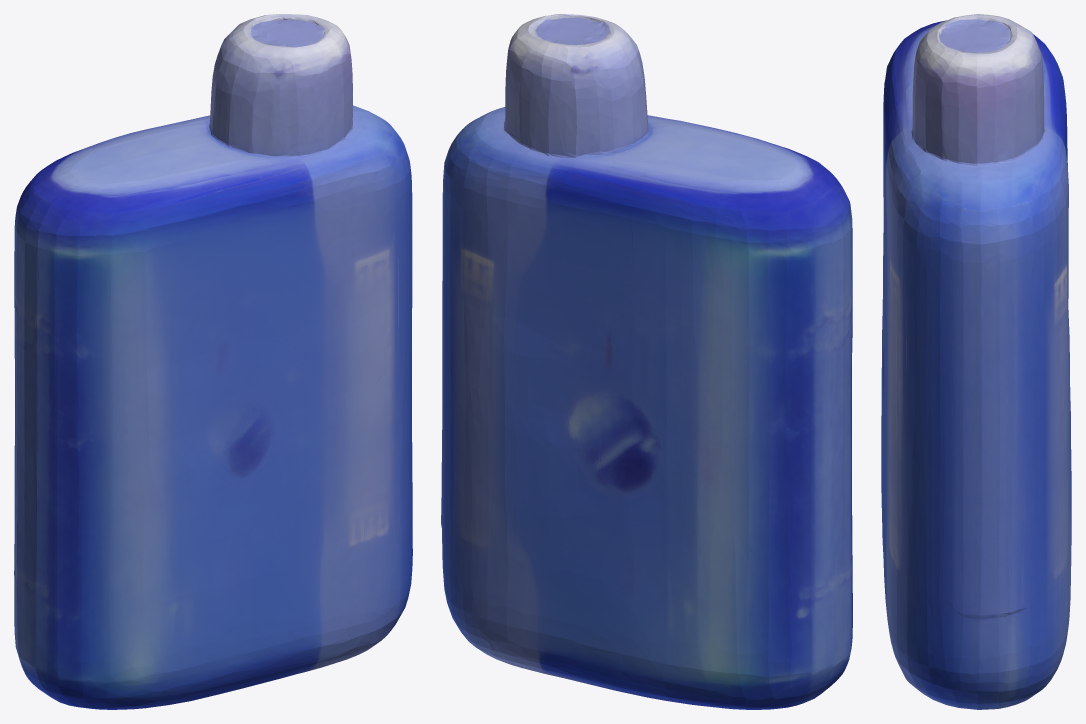
The model's file is geekbar.glb.
The picture shows the model from 3 angles, left to right: view 1: azimuth 30°, elevation 25°; view 2: azimuth 150°, elevation 25°; view 3: azimuth 270°, elevation 25°; orthographic projection. The views are drawn at different scales.
Visible parts, largest first — view 1: geometry_0; view 2: geometry_0; view 3: geometry_0.
Boxes of the visible parts, x1,y1,x2,y2 form: geometry_0: (14, 14, 412, 709); geometry_0: (441, 14, 852, 709); geometry_0: (881, 14, 1071, 709).
Bounding box in the file's own units: 0.6415 × 1 × 0.2675.
1 material, 1 textured.
